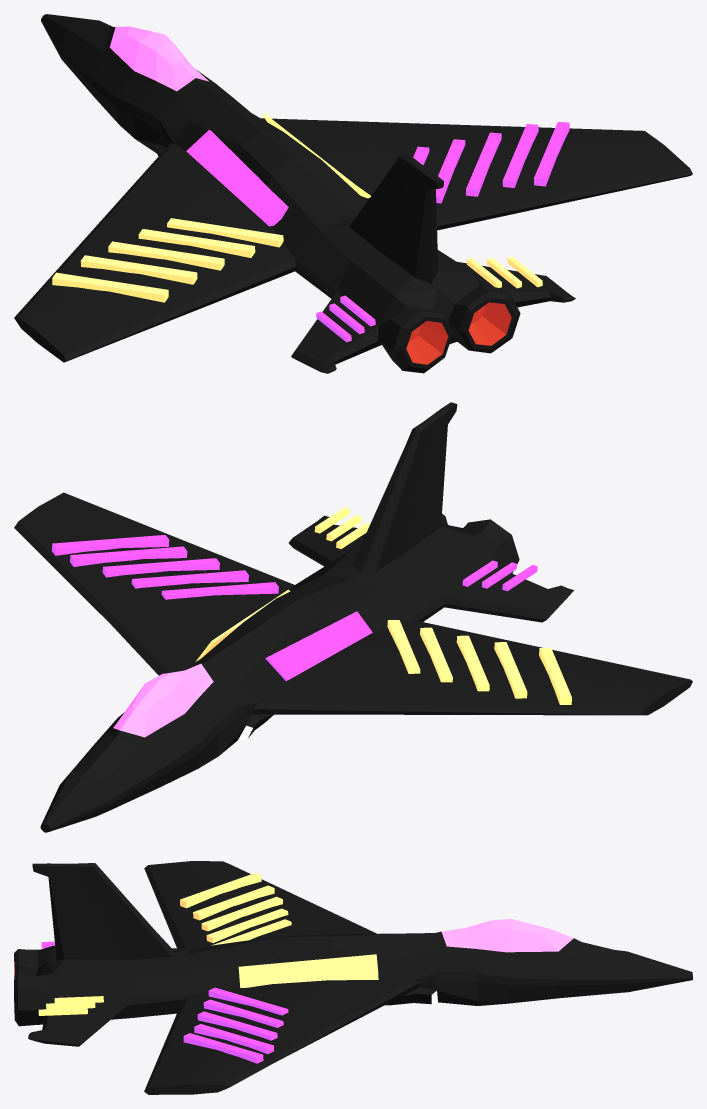
Rendered from neolowpolyjetnotext.glb.
3 renders of one model, top to bottom at view 1: azimuth 30°, elevation 25°; view 2: azimuth 150°, elevation 25°; view 3: azimuth 270°, elevation 25°, orthographic. The views are drawn at different scales.
Parts seen in each view (by area): view 1: Jet; view 2: Jet; view 3: Jet.
Part boxes in pixels (x1,y1,x2,y2): Jet: (14, 14, 692, 373); Jet: (14, 402, 692, 832); Jet: (14, 861, 692, 1094).
Size of the model in its own units: 12.12 by 3.36 by 13.83.
